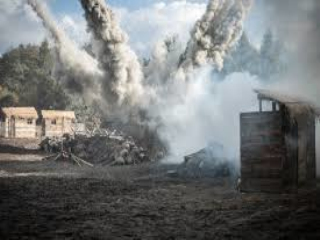smoke: (24, 2, 248, 128)
